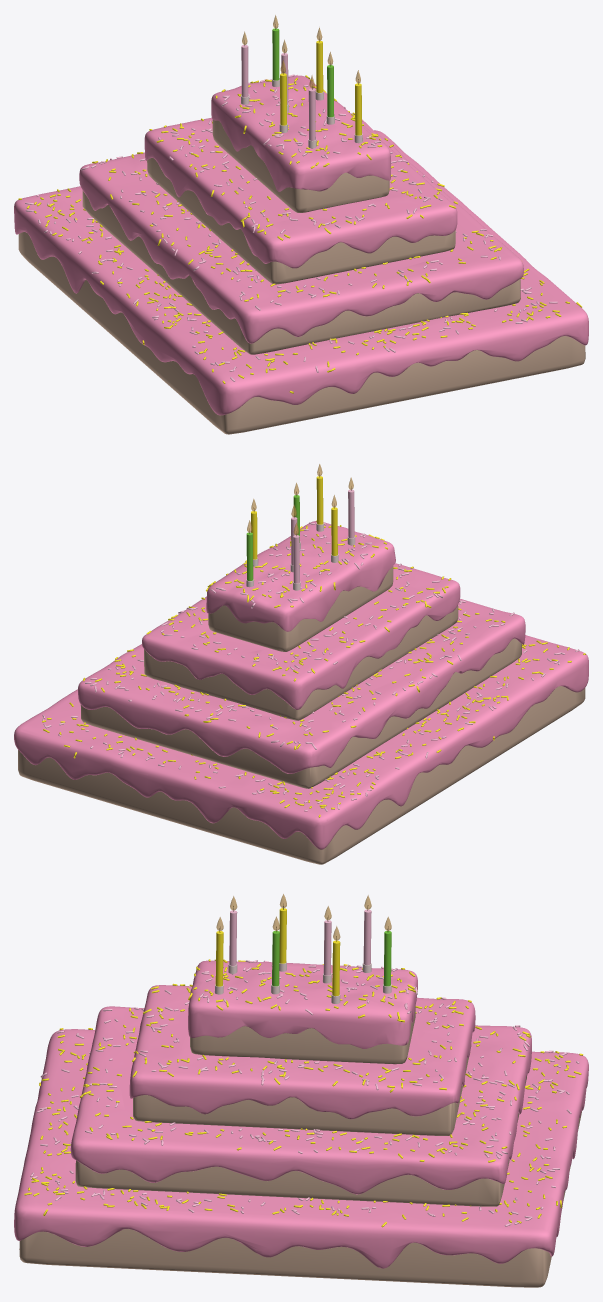
Rendered from Tarta_3.glb.
The picture shows the model from 3 angles, top to bottom: view 1: azimuth 30°, elevation 25°; view 2: azimuth 150°, elevation 25°; view 3: azimuth 270°, elevation 25°; orthographic projection. The views are drawn at different scales.
Visible parts, largest first — view 1: Tårta; view 2: Tårta; view 3: Tårta.
Part boxes in pixels (x1,y1,x2,y2): Tårta: [14, 15, 588, 434]; Tårta: [14, 464, 588, 864]; Tårta: [14, 894, 588, 1287].
Size of the model in its own units: 4.61 by 3.03 by 5.54.
